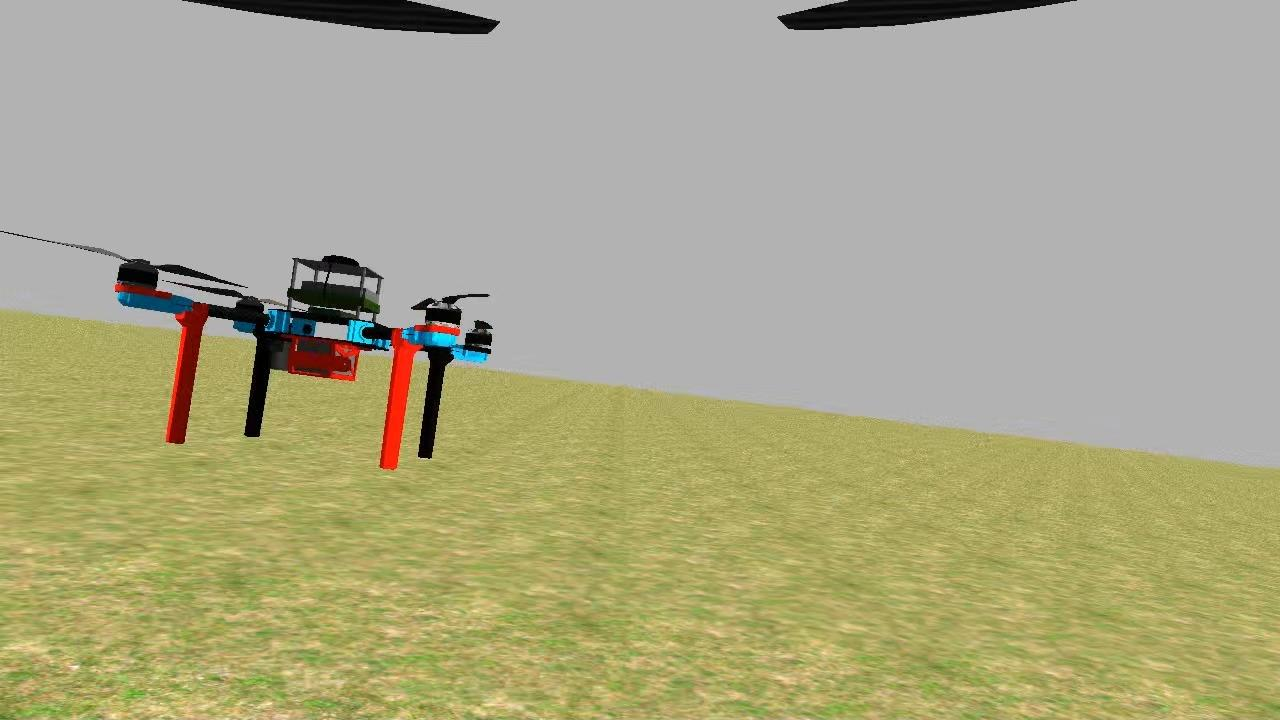UAV: (106, 252, 504, 497)
